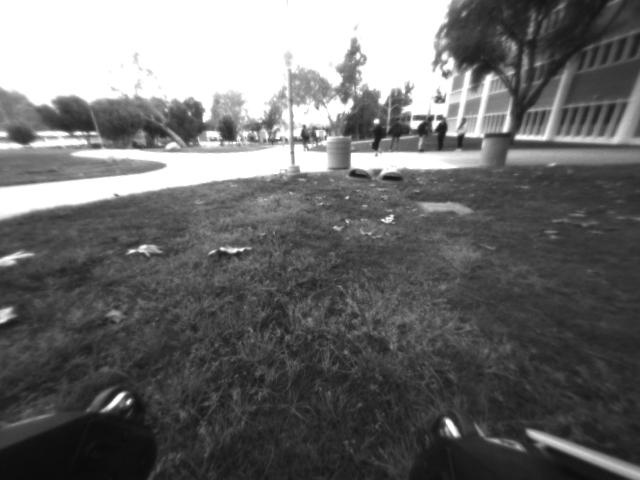trashcan: (472, 133, 511, 171), (328, 135, 357, 176)
